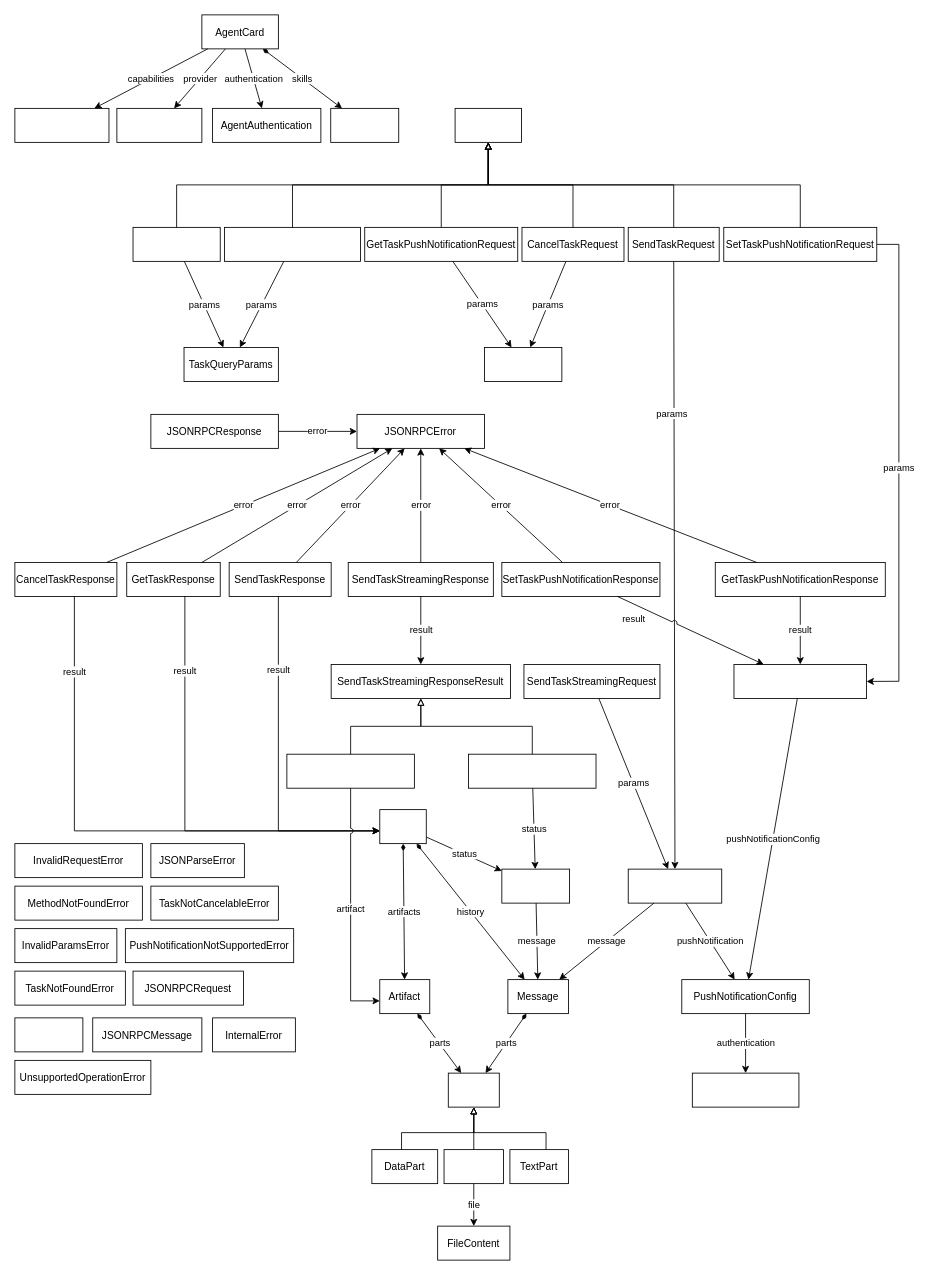
Image size: 929x1275. Some labels were removed from this diagram. The box of each missing label's shape, as (x1, y1, x2, y2) in pixels:
A2ARequest: (454, 108, 521, 142)
AgentCapabilities: (14, 108, 109, 142)
AgentProvider: (116, 108, 202, 142)
AgentSkill: (330, 108, 399, 142)
AuthenticationInfo: (691, 1072, 799, 1107)
FilePart: (443, 1149, 504, 1184)
GetTaskRequest: (132, 227, 220, 261)
Part: (447, 1072, 499, 1107)
Task: (379, 809, 426, 844)
TaskArtifactUpdateEvent: (286, 753, 414, 788)
TaskIdParams: (484, 347, 562, 381)
TaskPushNotificationConfig: (733, 664, 867, 698)
TaskResubscriptionRequest: (224, 227, 360, 261)
TaskSendParams: (627, 868, 722, 903)
TaskState: (14, 1017, 83, 1052)
TaskStatus: (501, 868, 570, 903)
TaskStatusUpdateEvent: (468, 753, 596, 788)
